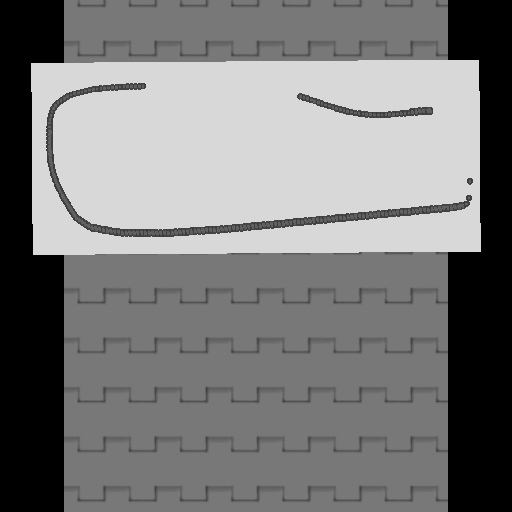Defect: (145, 77, 299, 106)
